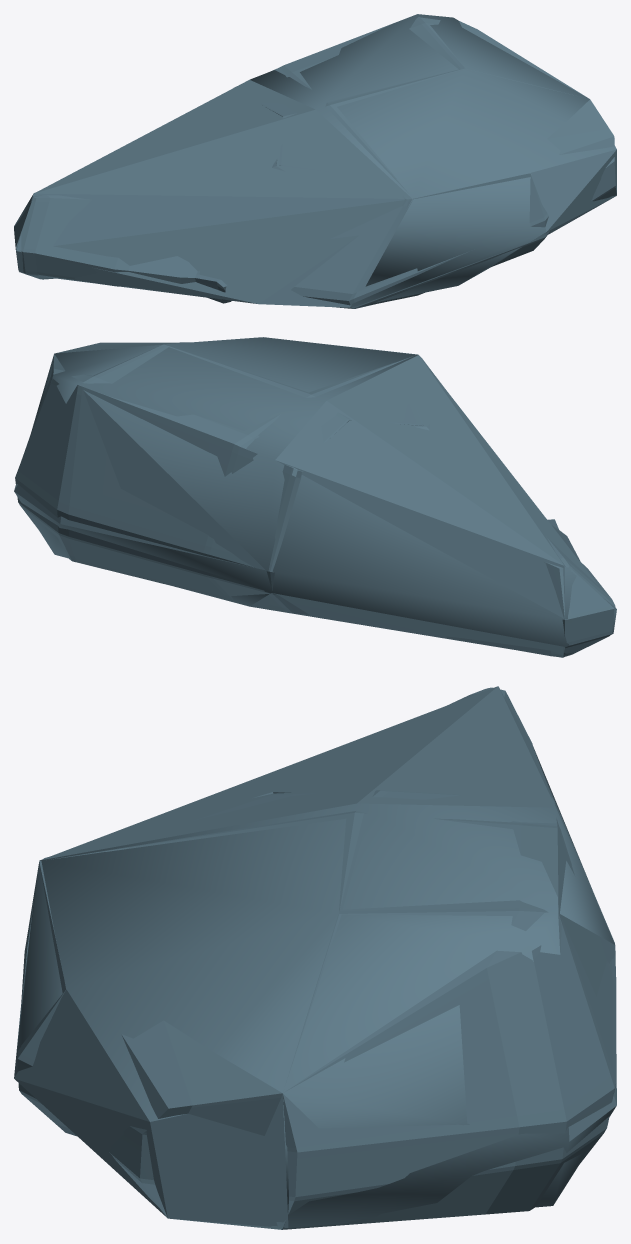
Rendered from rocks_round_B.fbx.
The picture shows the model from 3 angles, top to bottom: view 1: azimuth 30°, elevation 25°; view 2: azimuth 150°, elevation 25°; view 3: azimuth 270°, elevation 25°; orthographic projection. The views are drawn at different scales.
Visible parts, largest first — view 1: c_ROCKSROUND_B, ROCKSROUND_B; view 2: c_ROCKSROUND_B, ROCKSROUND_B; view 3: c_ROCKSROUND_B, ROCKSROUND_B.
Boxes of the visible parts, left/top/right/bottom form: c_ROCKSROUND_B: left=14, top=14, right=616, bottom=307; ROCKSROUND_B: left=14, top=17, right=616, bottom=308; c_ROCKSROUND_B: left=14, top=337, right=616, bottom=657; ROCKSROUND_B: left=15, top=342, right=615, bottom=657; c_ROCKSROUND_B: left=14, top=686, right=616, bottom=1227; ROCKSROUND_B: left=17, top=687, right=616, bottom=1229.
Bounding box in the file's own units: 108 × 30.33 × 58.85.
